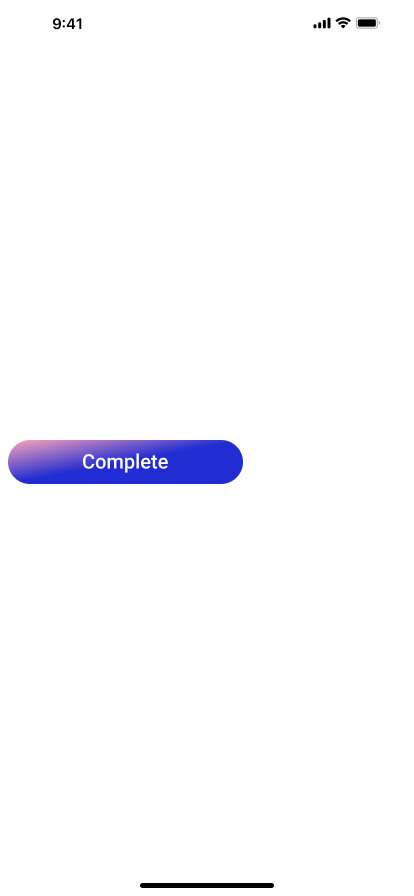Buttons: (8, 440, 243, 484)
Home Indicator: (0, 862, 414, 896)
Status Bar: (0, 0, 414, 44)
